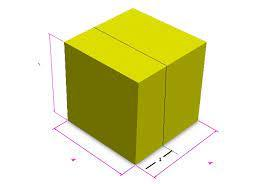cubos: (60, 5, 214, 168)
